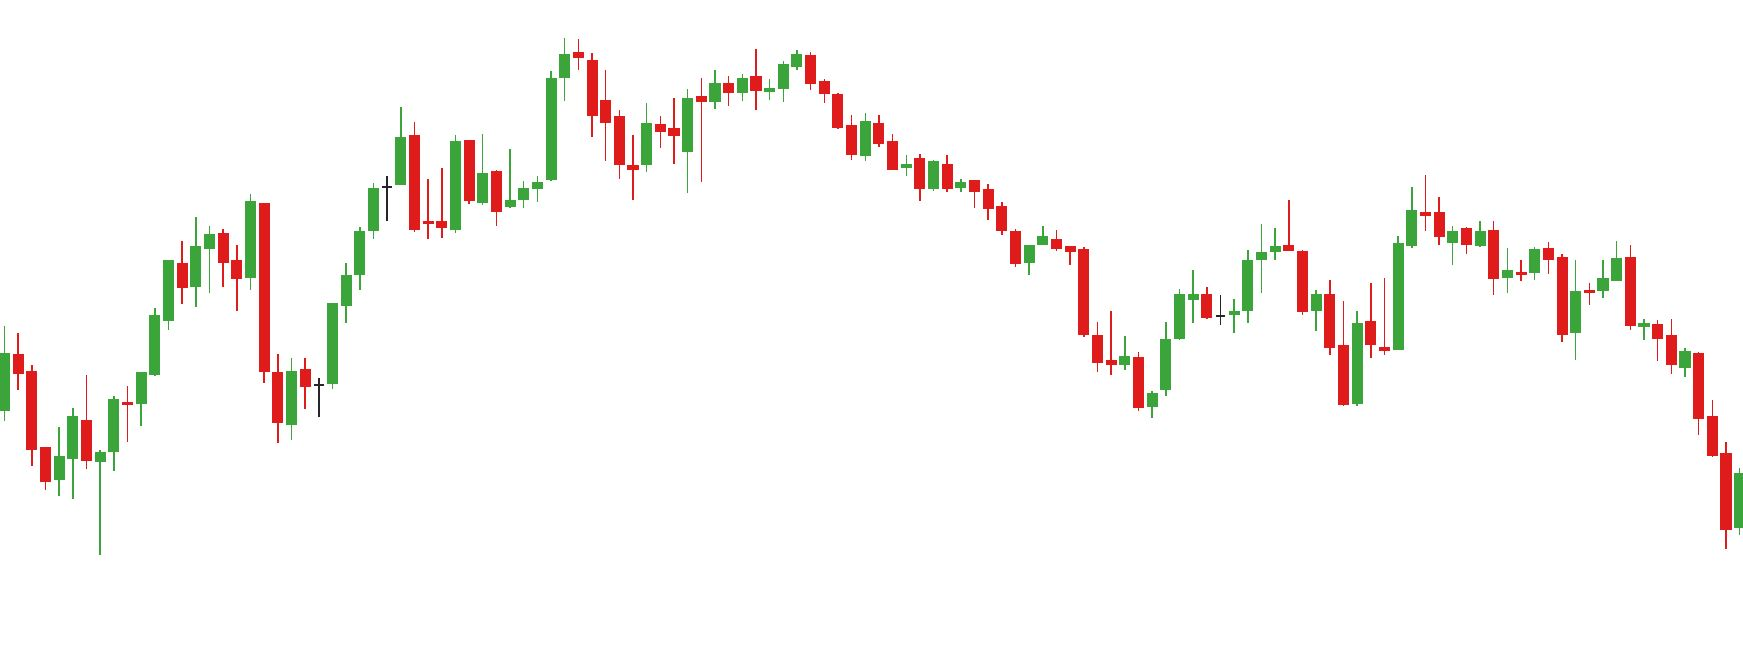sell: (389, 42, 599, 161), (1279, 177, 1434, 282)
